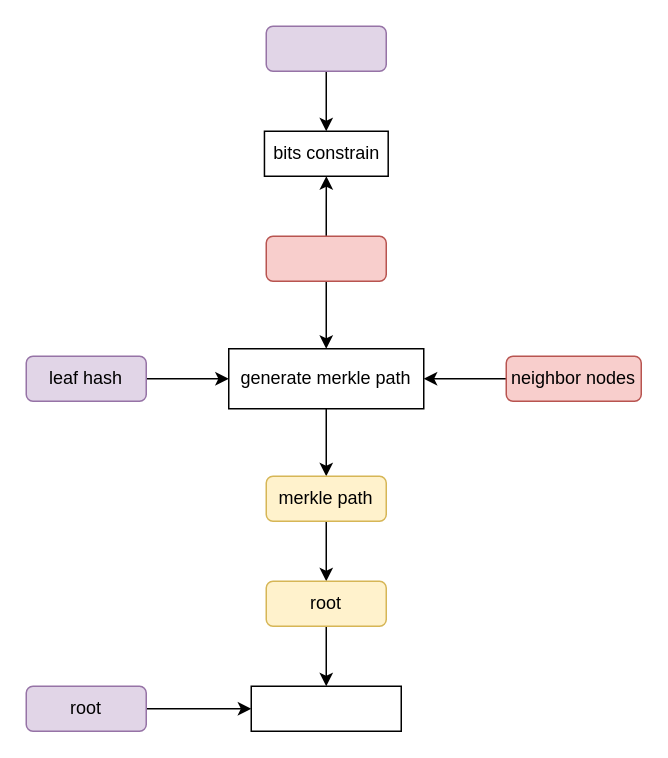
Image size: 668x758. Some labels were removed from this diagram. The centre of each missing label's shape, as x and y in pixels:
"equal constrain" goes at pixel 325 708.
"leaf index" goes at pixel 325 48.
"position array" goes at pixel 325 258.
